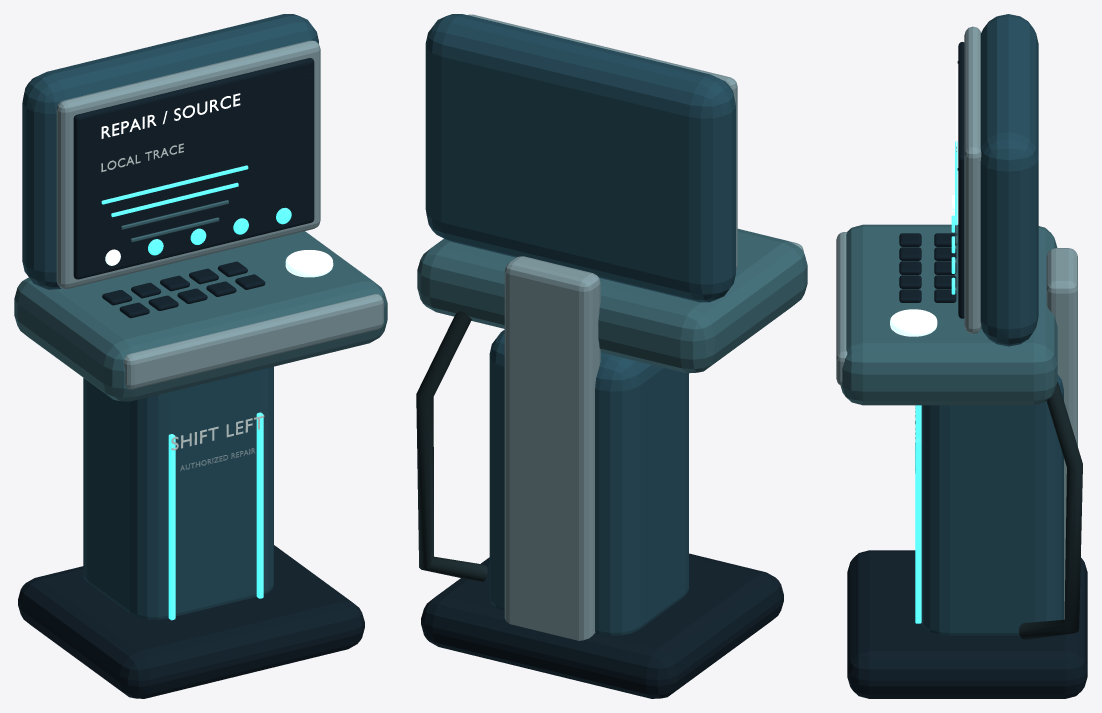
The model's file is SM_RepairTerminal.fbx.
3 views of the same model, side by side, from view 1: azimuth 30°, elevation 25°; view 2: azimuth 150°, elevation 25°; view 3: azimuth 270°, elevation 25° (orthographic). The views are drawn at different scales.
Visible parts, largest first — view 1: SM_RepairTerminal; view 2: SM_RepairTerminal; view 3: SM_RepairTerminal.
Part boxes in pixels (left/top/right/bottom): SM_RepairTerminal: left=14, top=14, right=387, bottom=698; SM_RepairTerminal: left=416, top=14, right=807, bottom=698; SM_RepairTerminal: left=836, top=14, right=1087, bottom=698.
Bounding box in the file's own units: 105 × 79.45 × 200.
